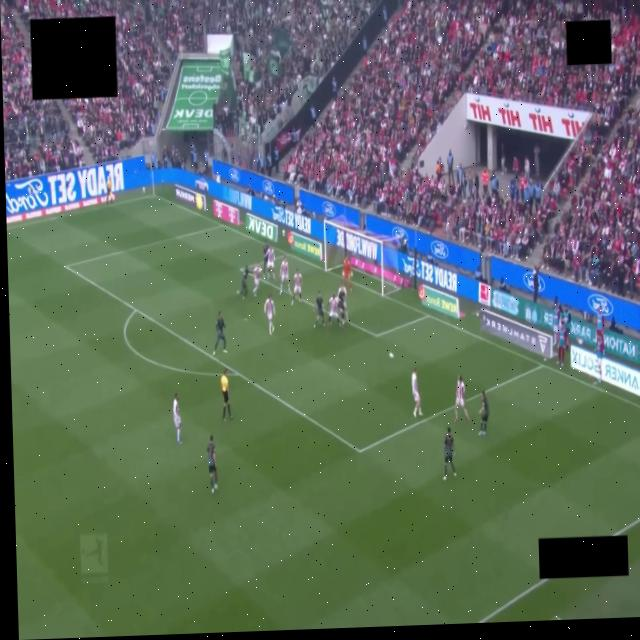ball: (389, 353, 393, 359)
player: (443, 427, 456, 480), (454, 375, 468, 422), (206, 435, 217, 493), (213, 312, 226, 356), (478, 391, 488, 436), (412, 369, 421, 416), (279, 257, 290, 294), (264, 295, 274, 334), (338, 284, 348, 323), (264, 247, 275, 280), (327, 295, 339, 325), (291, 269, 301, 305), (173, 394, 180, 444), (313, 292, 323, 327), (337, 289, 346, 327), (342, 258, 351, 291), (240, 266, 248, 299), (252, 265, 259, 296), (262, 244, 268, 277)
referee: (220, 368, 231, 421)
